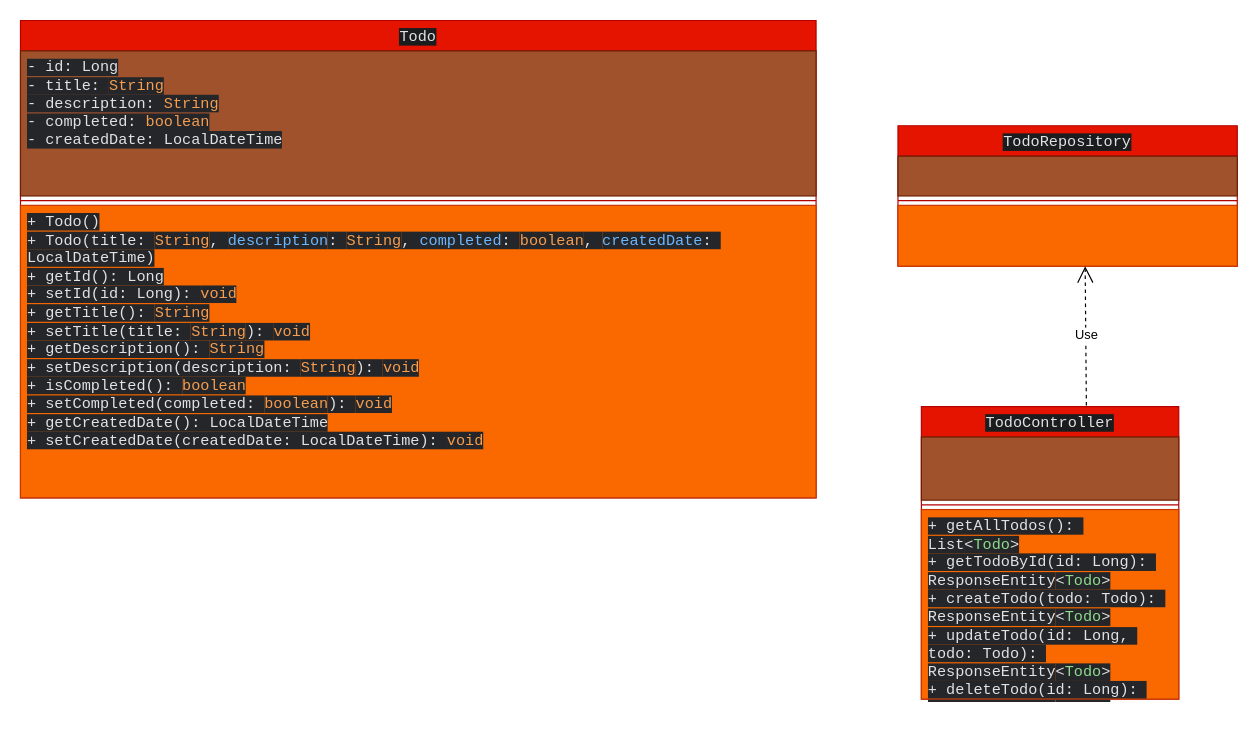
Image size: 1258x736. Some labels were removed from this diagram. Each missing label, with the centre of its shape:
- todoRepository: TodoRepository: the point at 1049,468
extends JpaRepository<Todo, Long>: the point at 1067,235
